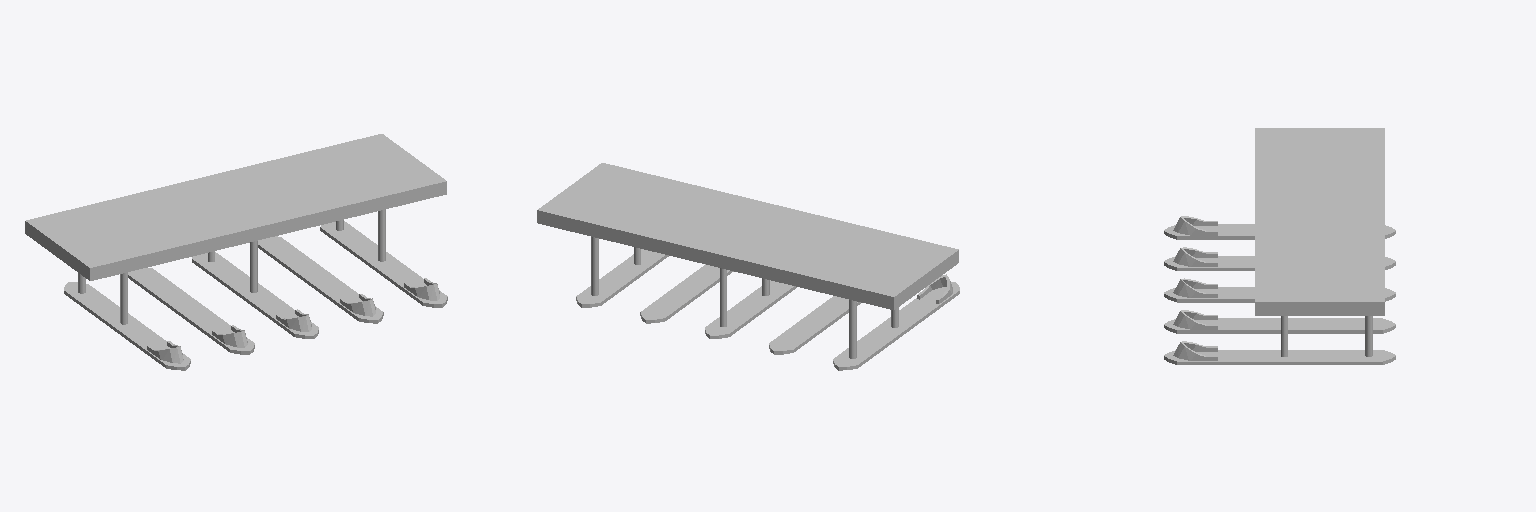
The model's file is toll.obj.
The picture shows the model from 3 angles: view 1: azimuth 30°, elevation 25°; view 2: azimuth 150°, elevation 25°; view 3: azimuth 270°, elevation 25°; orthographic projection.
Visible parts, largest first — view 1: Cube_Cube.001, Cube.001_Cube.002; view 2: Cube_Cube.001, Cube.001_Cube.002; view 3: Cube_Cube.001, Cube.001_Cube.002.
Boxes of the visible parts, <box> form: Cube_Cube.001: <box>25,134,446,324</box>; Cube.001_Cube.002: <box>64,221,447,370</box>; Cube_Cube.001: <box>537,163,958,358</box>; Cube.001_Cube.002: <box>576,249,959,370</box>; Cube_Cube.001: <box>1255,128,1384,356</box>; Cube.001_Cube.002: <box>1164,216,1395,364</box>.
Bounding box in the file's own units: 19.46 × 4.23 × 10.99.